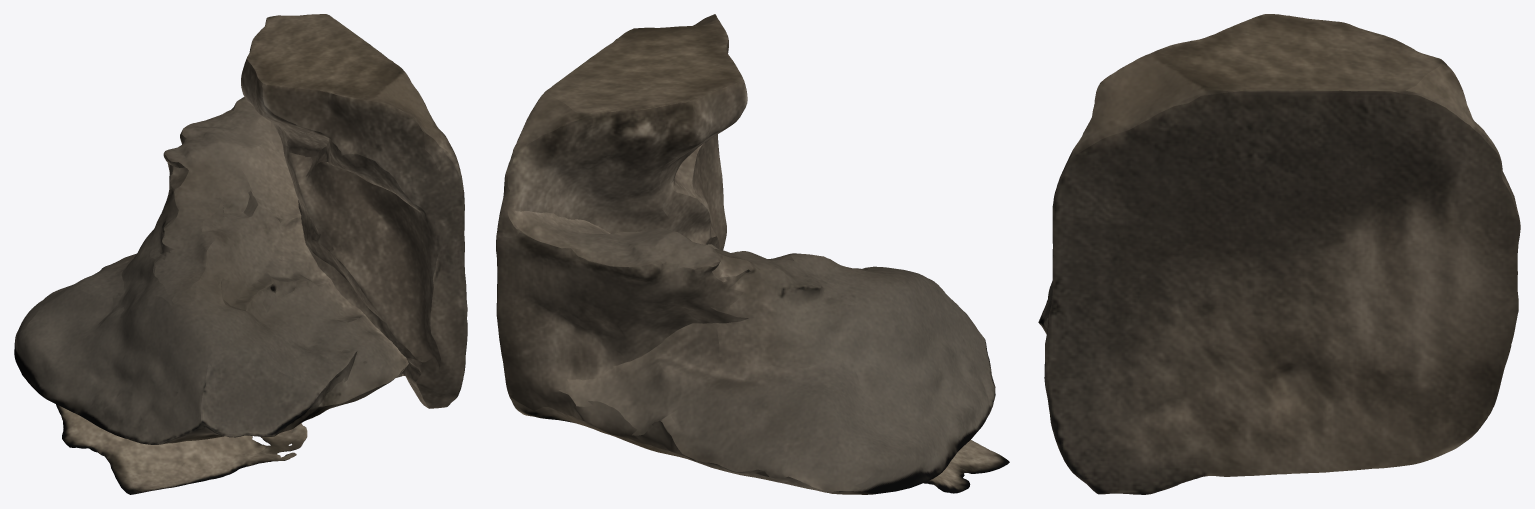
3 renders of one model, left to right at view 1: azimuth 30°, elevation 25°; view 2: azimuth 150°, elevation 25°; view 3: azimuth 270°, elevation 25°, orthographic. The views are drawn at different scales.
Visible parts, largest first — view 1: world; view 2: world; view 3: world.
Part boxes in pixels (x1=…): world: x1=14, y1=14, x2=467, y2=494; world: x1=496, y1=14, x2=1009, y2=494; world: x1=1038, y1=14, x2=1520, y2=494.
Bounding box in the file's own units: 0.8 × 0.7937 × 0.7992.
Materials: 1 (1 with a texture image).
